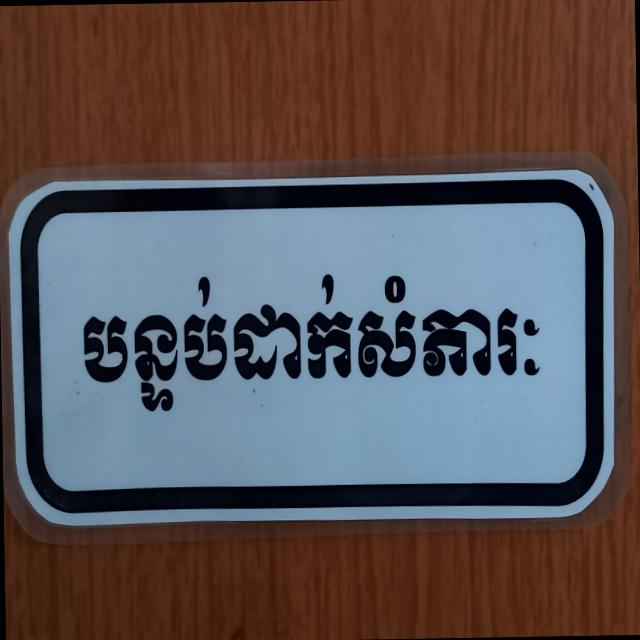Yolov11kh: (70, 255, 563, 424)
